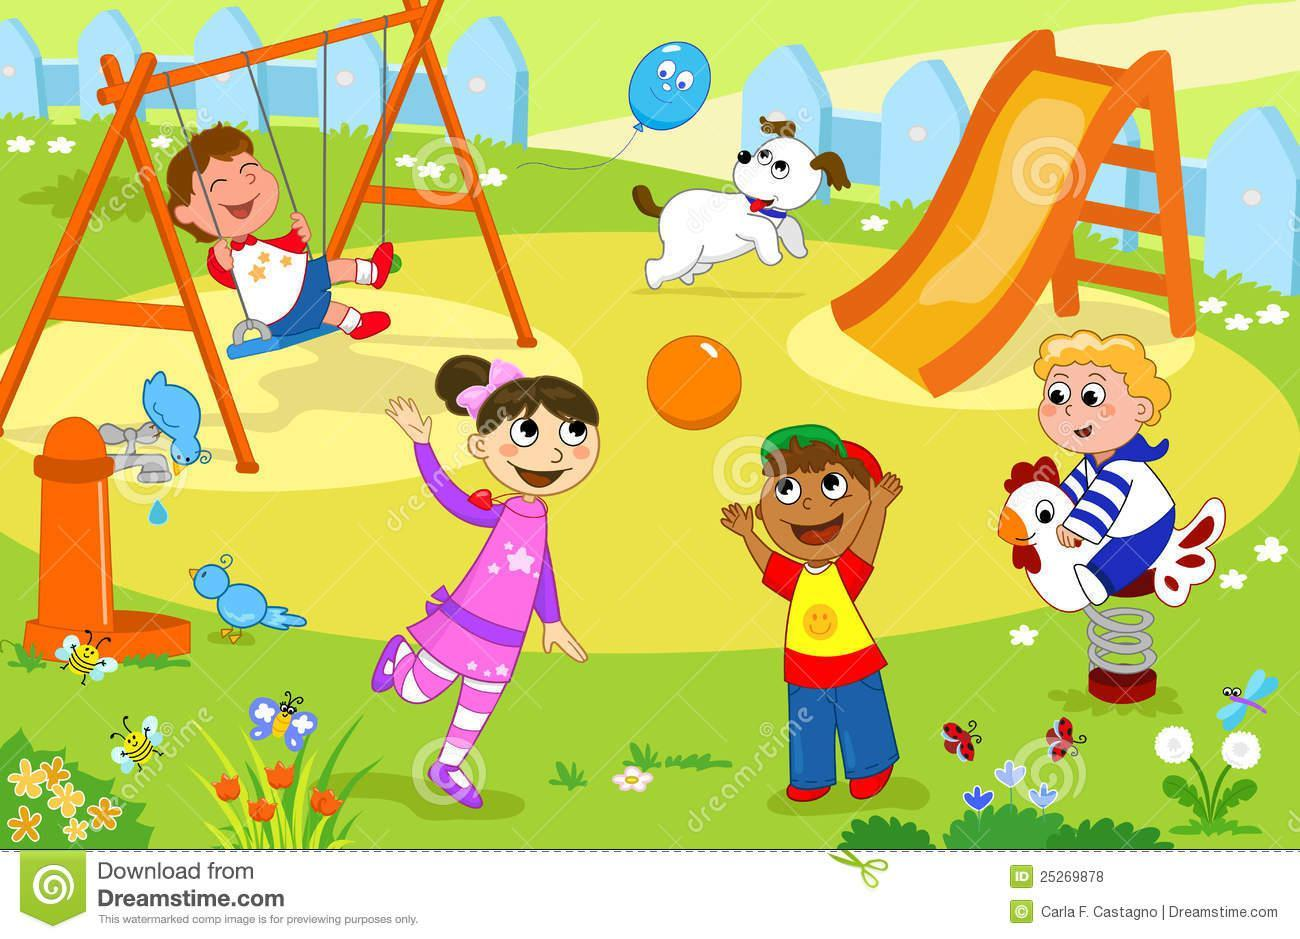bird: (175, 543, 309, 640), (120, 362, 215, 476)
dog: (612, 127, 843, 301)
person: (357, 359, 608, 806), (701, 428, 917, 811), (139, 135, 413, 333), (1023, 327, 1182, 605)
